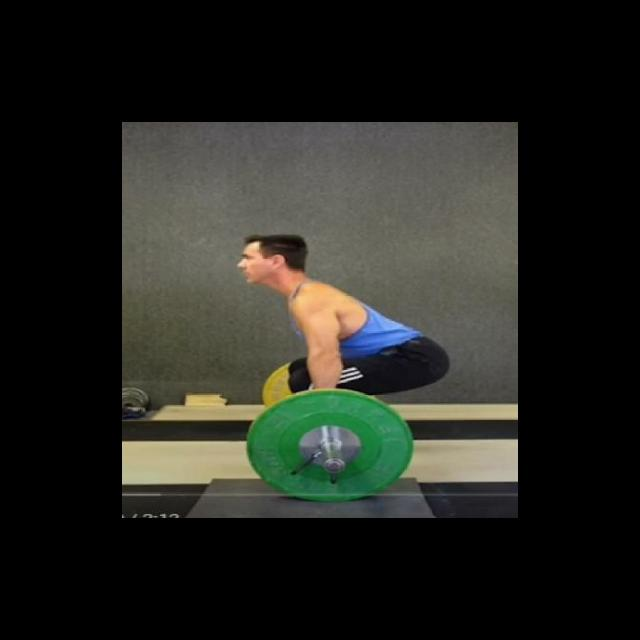barbell: (235, 383, 422, 506)
